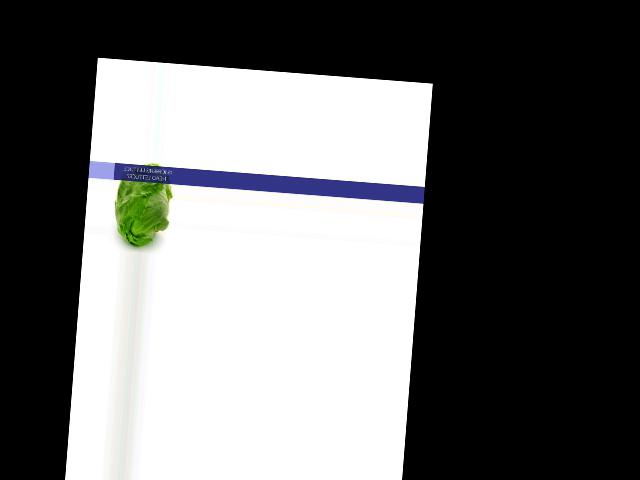lettuce: (113, 160, 174, 252)
